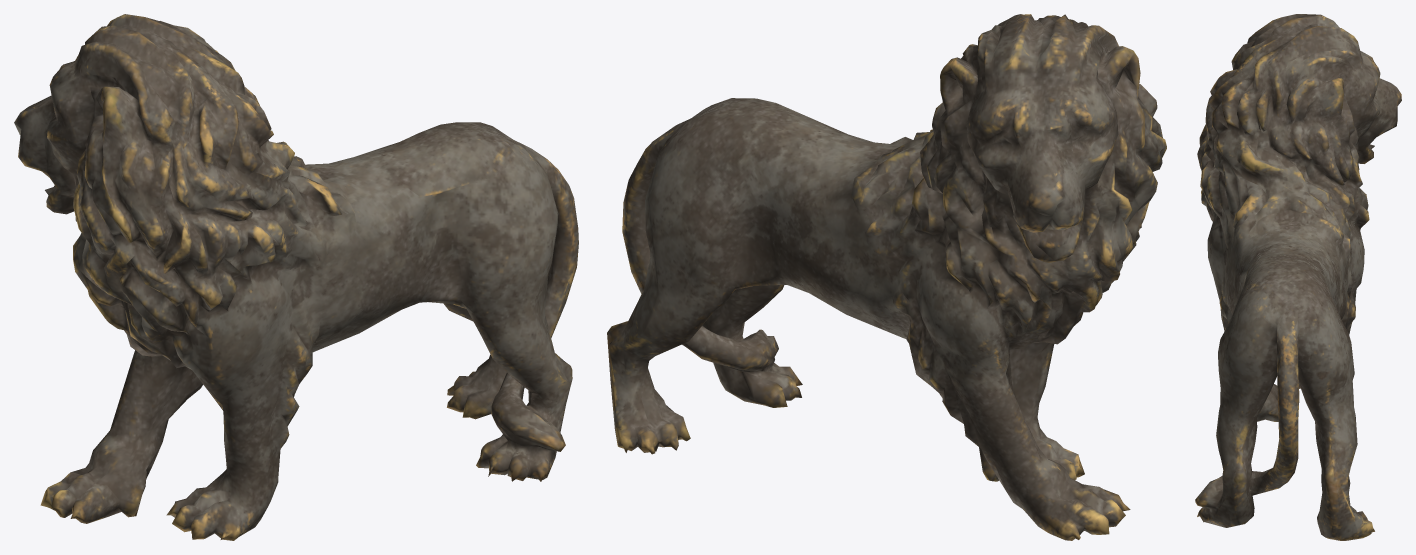
The model's file is SM_LionStatue.fbx.
The picture shows the model from 3 angles, left to right: view 1: azimuth 30°, elevation 25°; view 2: azimuth 150°, elevation 25°; view 3: azimuth 270°, elevation 25°; orthographic projection. The views are drawn at different scales.
Visible parts, largest first — view 1: SM_LionStatue_LOD0; view 2: SM_LionStatue_LOD0; view 3: SM_LionStatue_LOD0.
Boxes of the visible parts, x1=… form: SM_LionStatue_LOD0: x1=14, y1=14, x2=578, y2=540; SM_LionStatue_LOD0: x1=607, y1=14, x2=1166, y2=540; SM_LionStatue_LOD0: x1=1195, y1=14, x2=1401, y2=540.
Bounding box in the file's own units: 134 × 60.91 × 122.
1 material, 1 textured.
